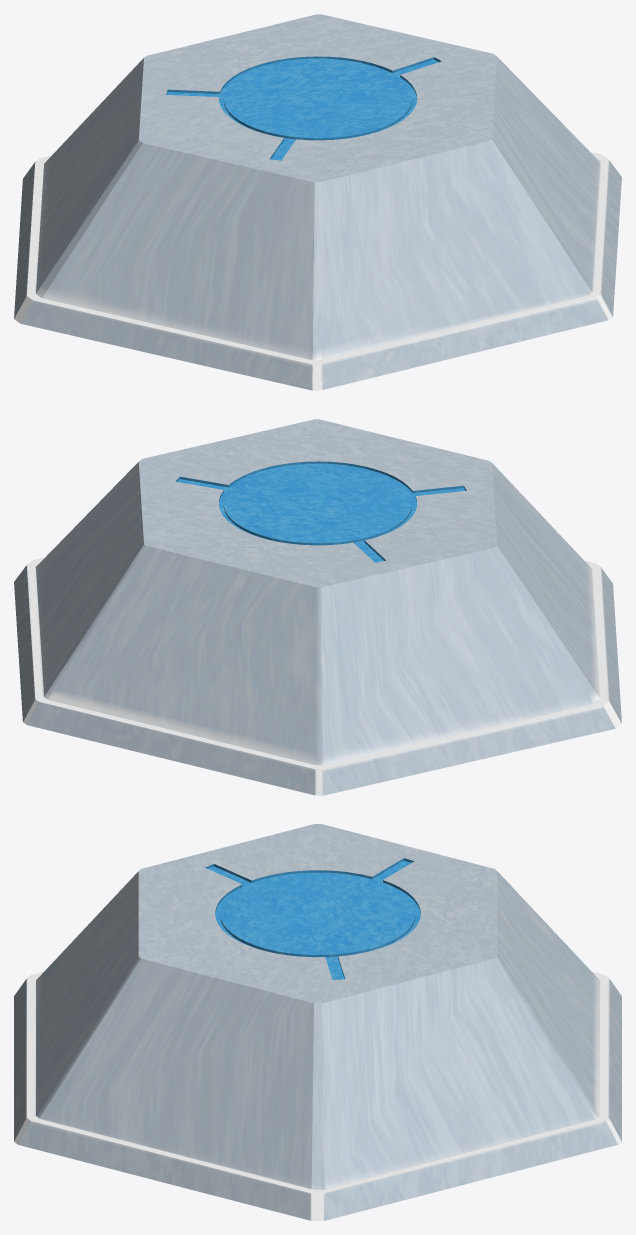
The picture shows the model from 3 angles, top to bottom: view 1: azimuth 30°, elevation 25°; view 2: azimuth 150°, elevation 25°; view 3: azimuth 270°, elevation 25°; orthographic projection. The views are drawn at different scales.
Parts seen in each view (by area): view 1: base2, hole; view 2: base2, hole; view 3: base2, hole.
Boxes of the visible parts, box(x1,y1,x2,y2) form: base2: box(14, 14, 621, 390); hole: box(167, 58, 438, 160); base2: box(14, 419, 621, 795); hole: box(177, 463, 465, 562); base2: box(14, 824, 621, 1220); hole: box(208, 860, 420, 979).
Bounding box in the file's own units: 5.28 × 1.25 × 4.46.
